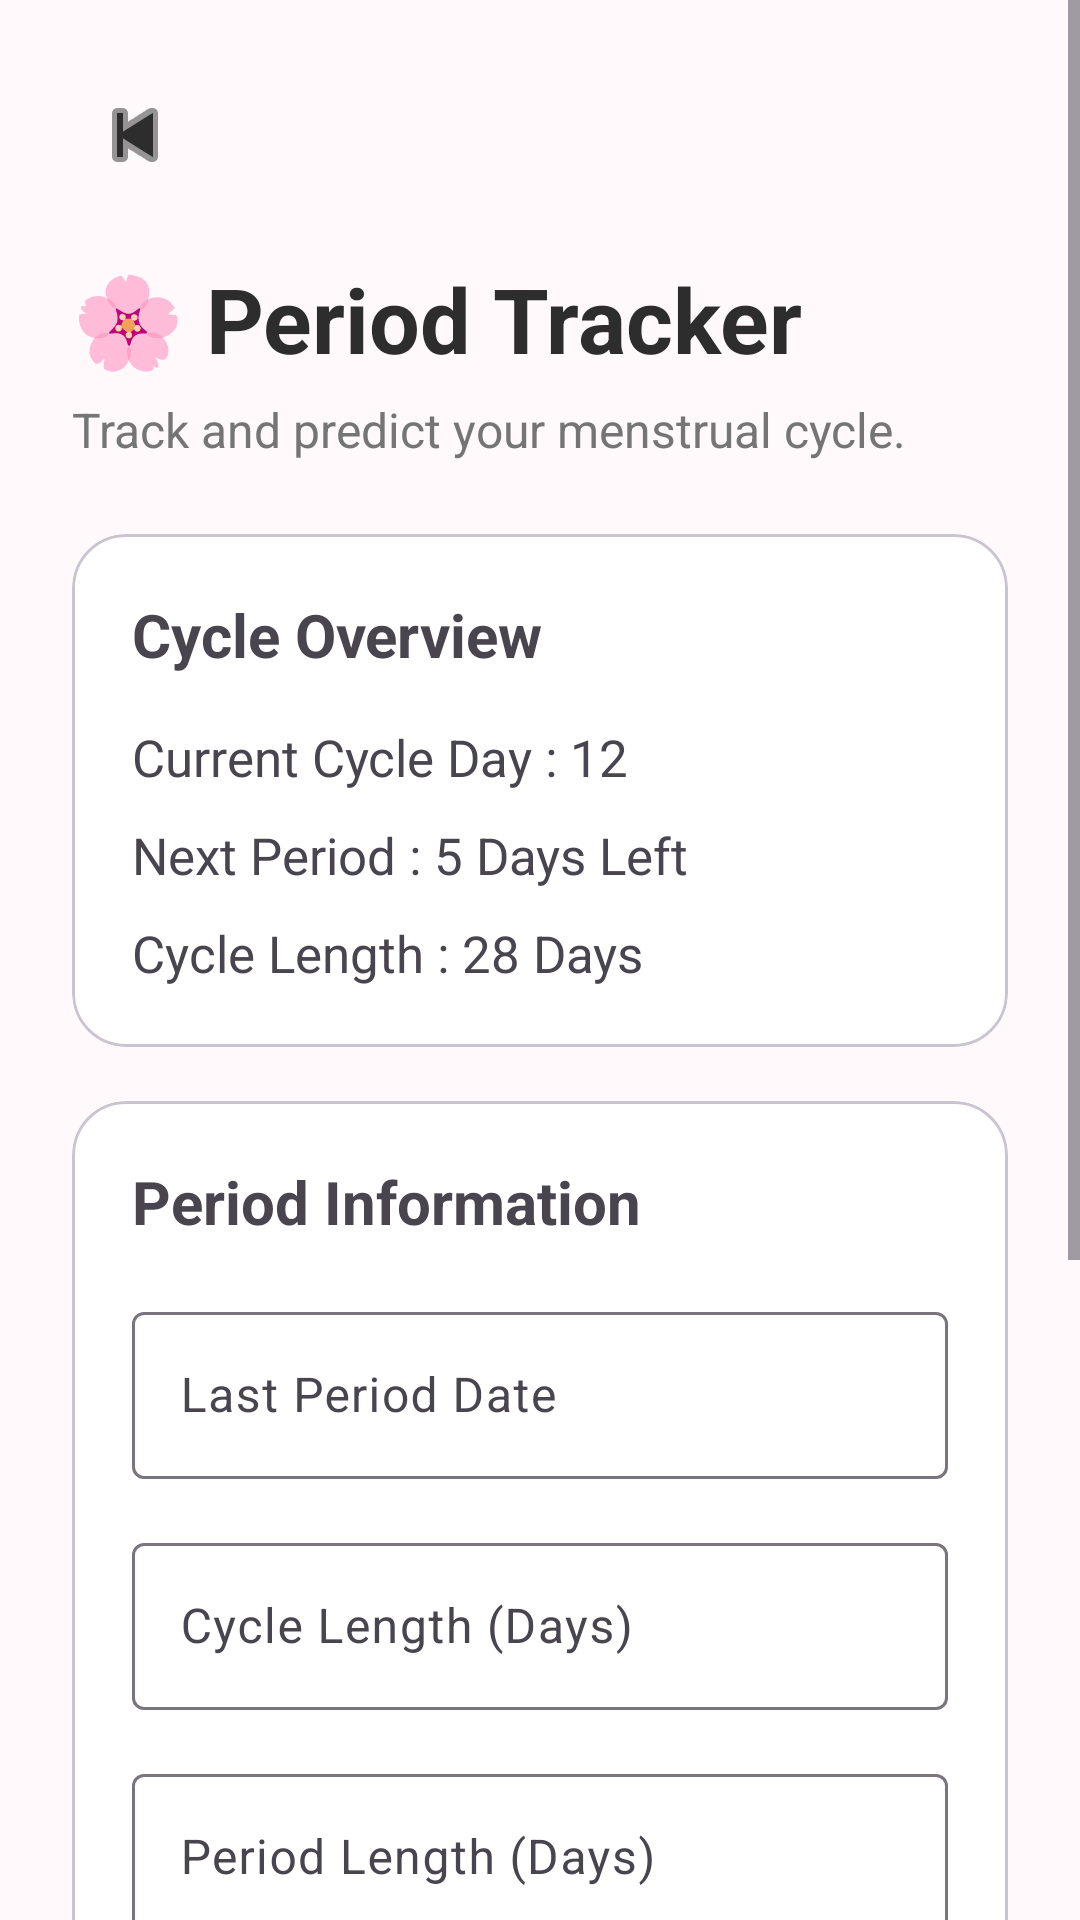

Named icons in this screenshot (1080 × 1920) and their bounding boxes, (x1, y1, x2, y2):
previous: (112, 108, 158, 162)
